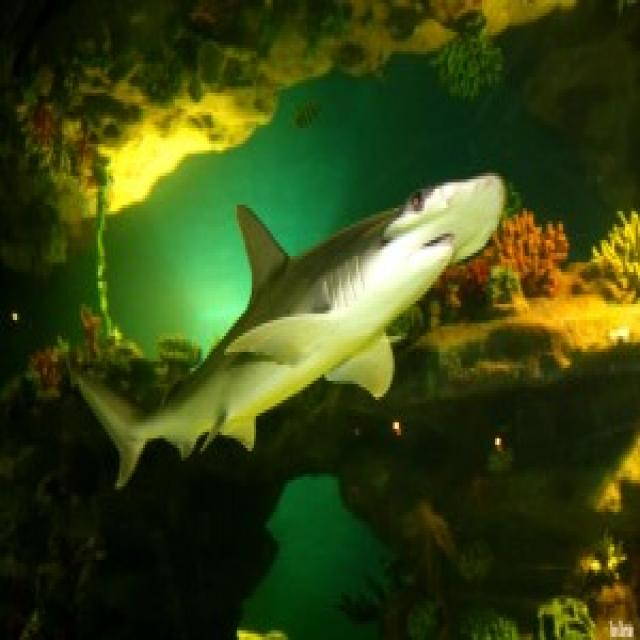Shark: (61, 163, 510, 497)
